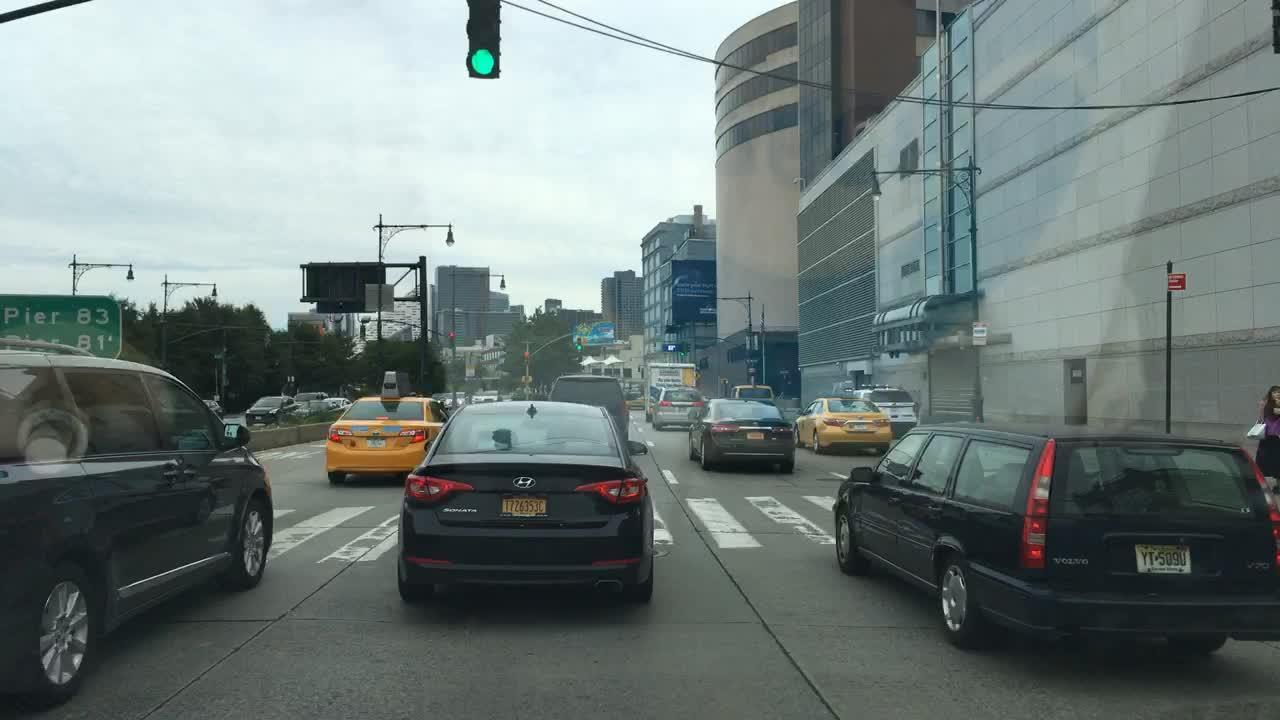Hyundai: (510, 471, 539, 491)
